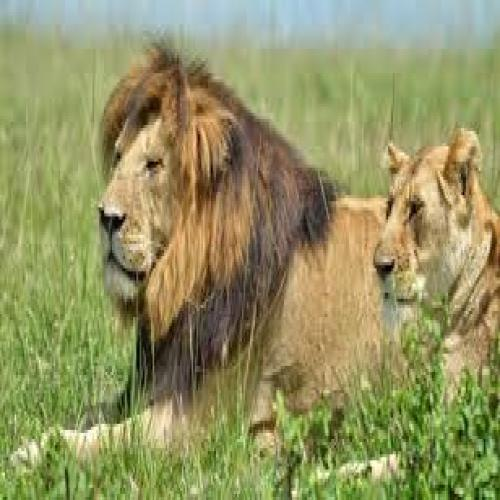lion-endangered: (30, 47, 386, 413), (370, 122, 500, 484)
